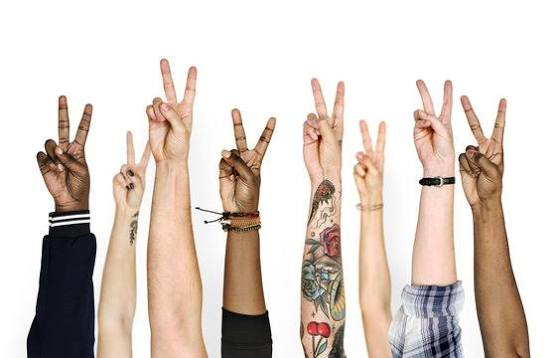peace_sign: (32, 87, 96, 198), (459, 91, 518, 202), (145, 56, 204, 164), (300, 72, 349, 177), (409, 72, 461, 169), (112, 126, 152, 213), (352, 115, 389, 194)
